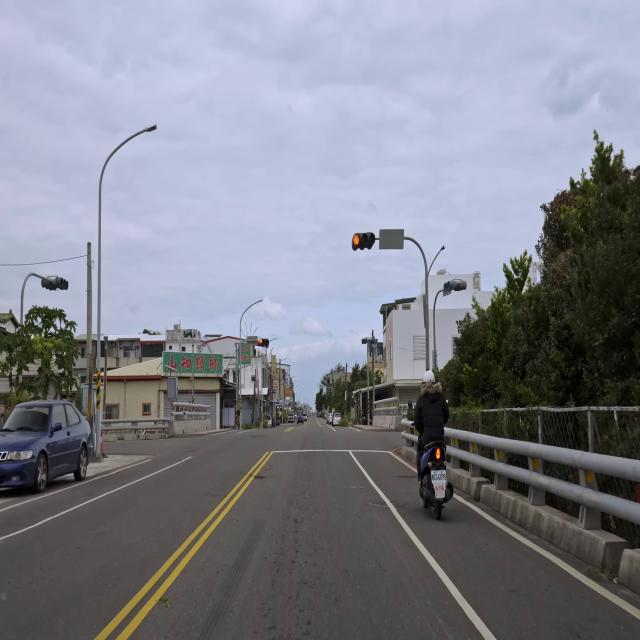red light: (350, 232, 376, 250), (258, 338, 270, 346)
